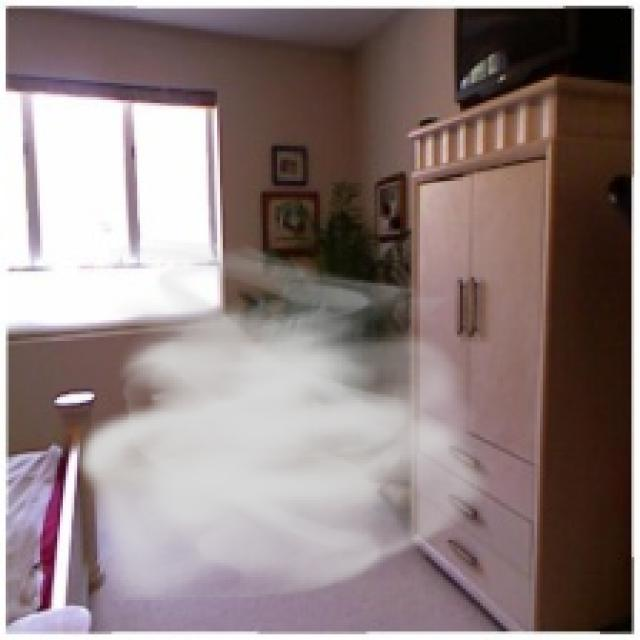smoke: (74, 237, 500, 612)
